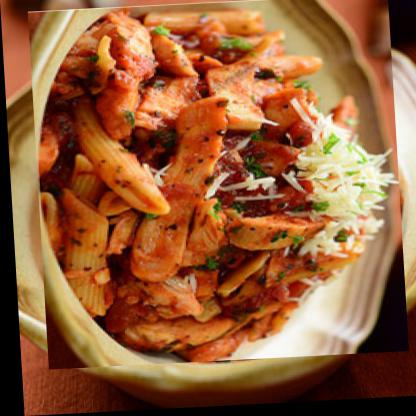pasta: (28, 0, 405, 372)
